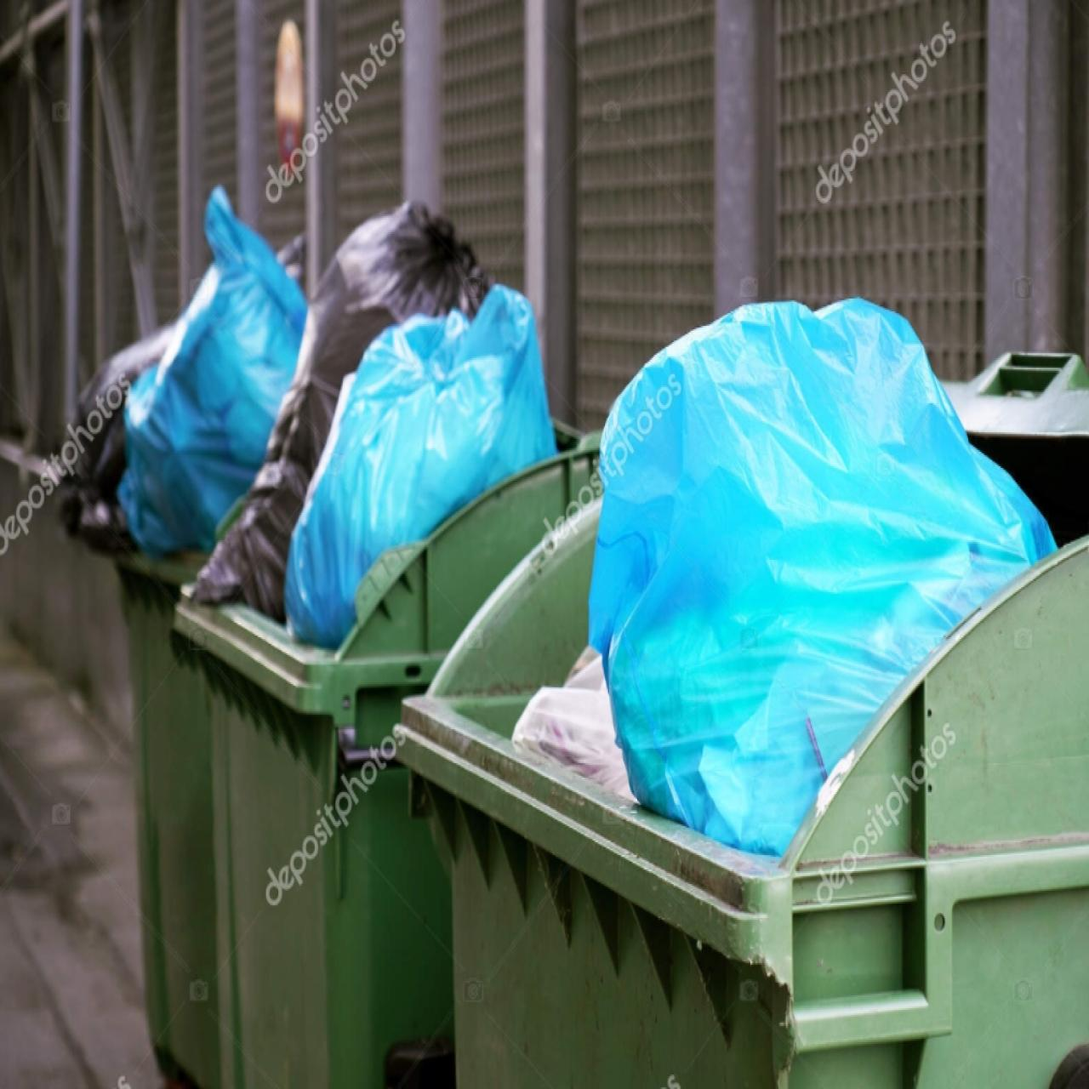bin_full: (402, 300, 1088, 1088), (174, 205, 598, 1088), (61, 187, 306, 1088)
normal_waste: (588, 299, 1055, 855), (197, 202, 490, 620), (286, 285, 555, 647), (118, 187, 306, 556)
